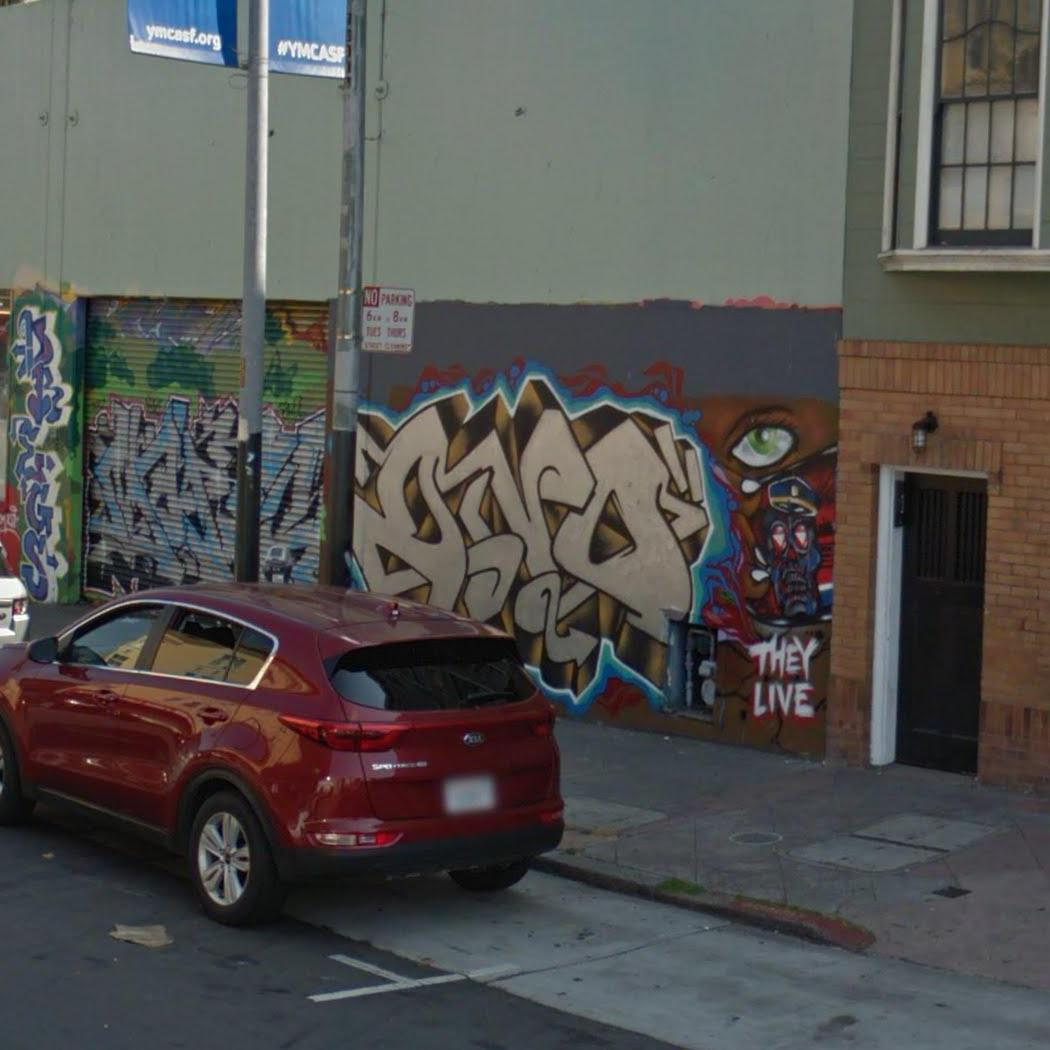No Parking: (358, 284, 419, 355)
